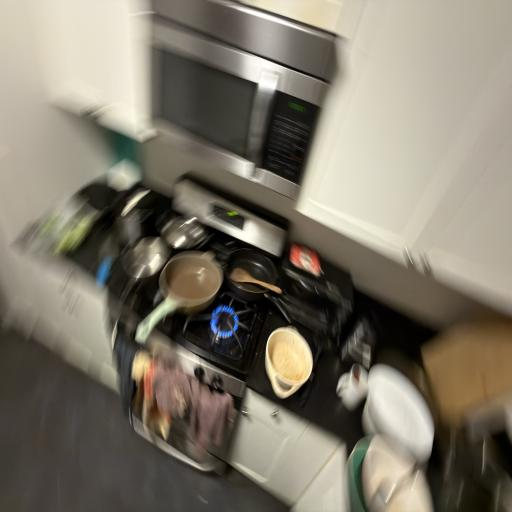Flame: (206, 304, 242, 346)
Pan: (148, 242, 228, 347), (267, 316, 329, 406), (228, 233, 287, 296)
